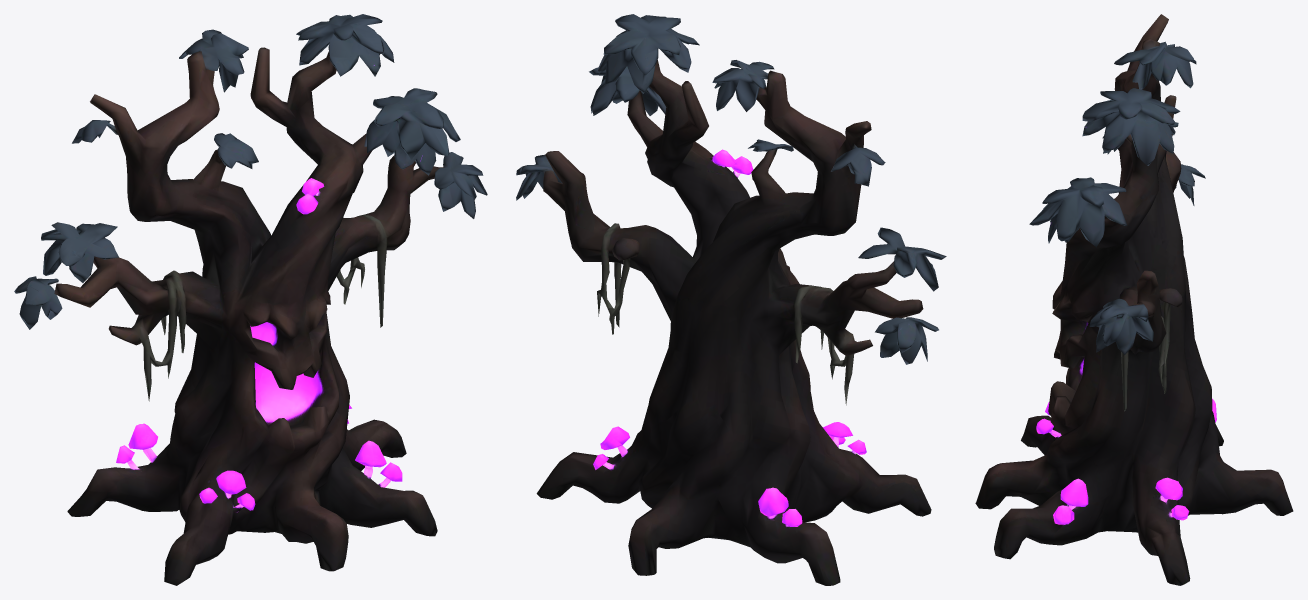
The model's file is gy_witchtree-TGGCv4Ju.glb.
The picture shows the model from 3 angles, left to right: view 1: azimuth 30°, elevation 25°; view 2: azimuth 150°, elevation 25°; view 3: azimuth 270°, elevation 25°; orthographic projection. The views are drawn at different scales.
Parts seen in each view (by area): view 1: tripo_node_463da91a-03f6-4f3e-9cfc-213c2dee36b2; view 2: tripo_node_463da91a-03f6-4f3e-9cfc-213c2dee36b2; view 3: tripo_node_463da91a-03f6-4f3e-9cfc-213c2dee36b2.
Boxes of the visible parts, box(x1,y1,x2,y2) form: tripo_node_463da91a-03f6-4f3e-9cfc-213c2dee36b2: box(14, 14, 487, 585); tripo_node_463da91a-03f6-4f3e-9cfc-213c2dee36b2: box(516, 14, 946, 585); tripo_node_463da91a-03f6-4f3e-9cfc-213c2dee36b2: box(975, 14, 1293, 585).
Size of the model in its own units: 0.9644 by 1 by 0.6365.
1 material, 1 textured.
